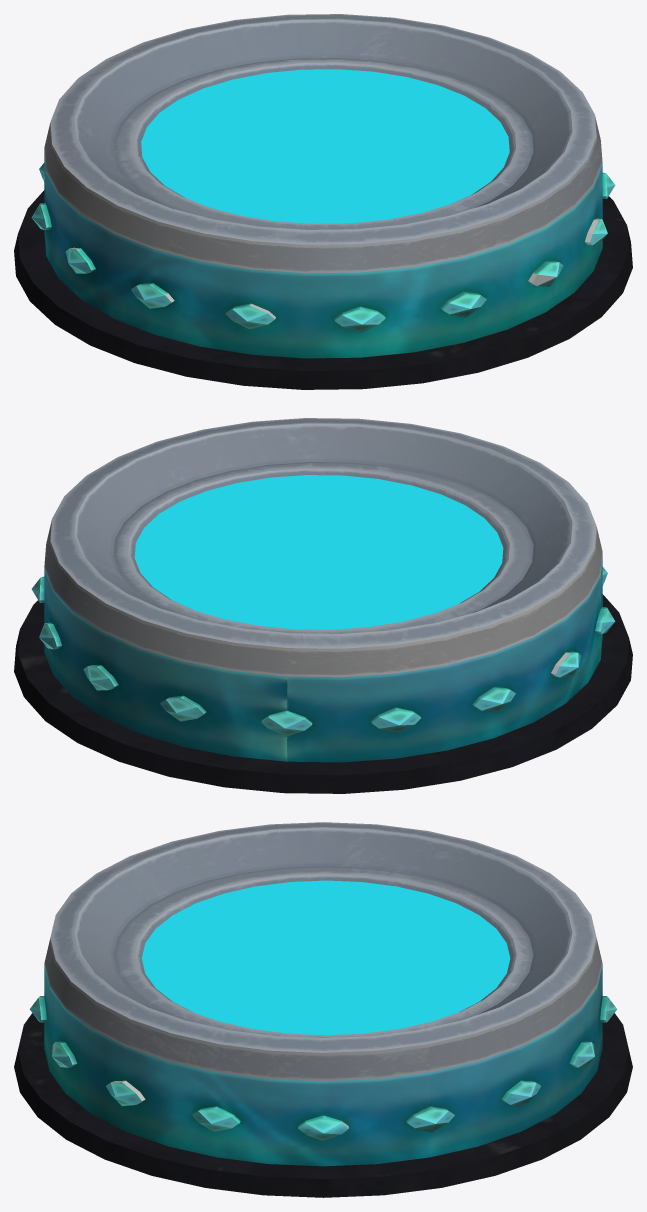
Rendered from LaserBase1.glb.
The picture shows the model from 3 angles, top to bottom: view 1: azimuth 30°, elevation 25°; view 2: azimuth 150°, elevation 25°; view 3: azimuth 270°, elevation 25°; orthographic projection.
Parts seen in each view (by area): view 1: Laser Base1; view 2: Laser Base1; view 3: Laser Base1.
Part boxes in pixels (left/top/right/bottom): Laser Base1: left=14, top=14, right=632, bottom=389; Laser Base1: left=14, top=418, right=632, bottom=793; Laser Base1: left=14, top=822, right=632, bottom=1197.
Size of the model in its own units: 2.22 by 0.5303 by 2.22.
Materials: 1 (1 with a texture image).
